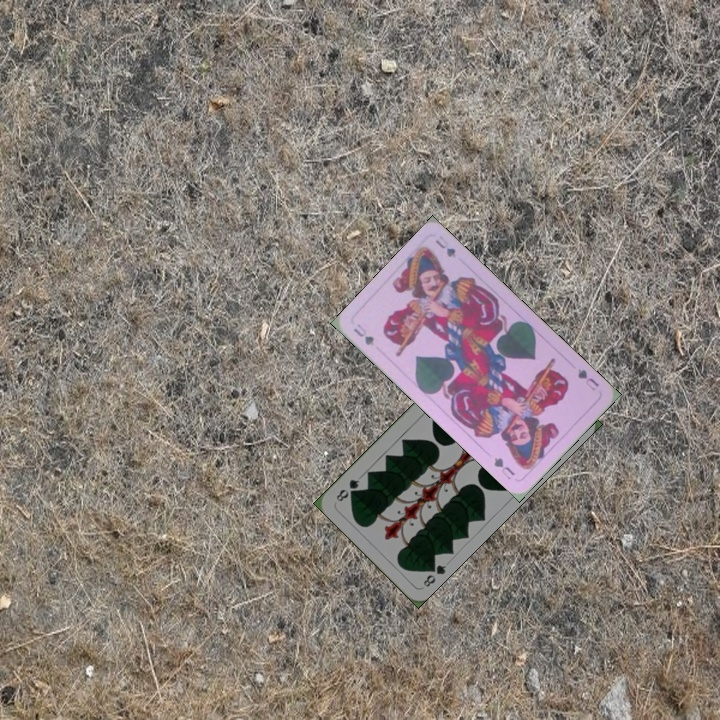G8: (419, 558, 449, 590)
GU: (573, 365, 601, 393), (349, 320, 377, 348)
